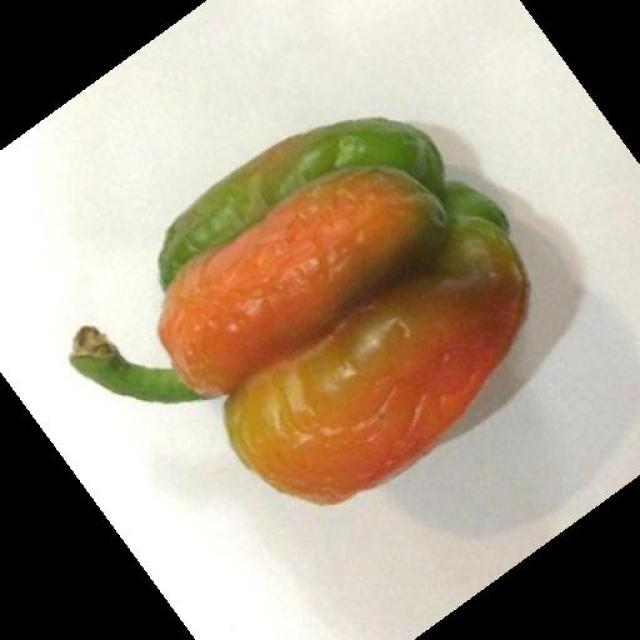Stale_Capsicum: (125, 122, 543, 468)
